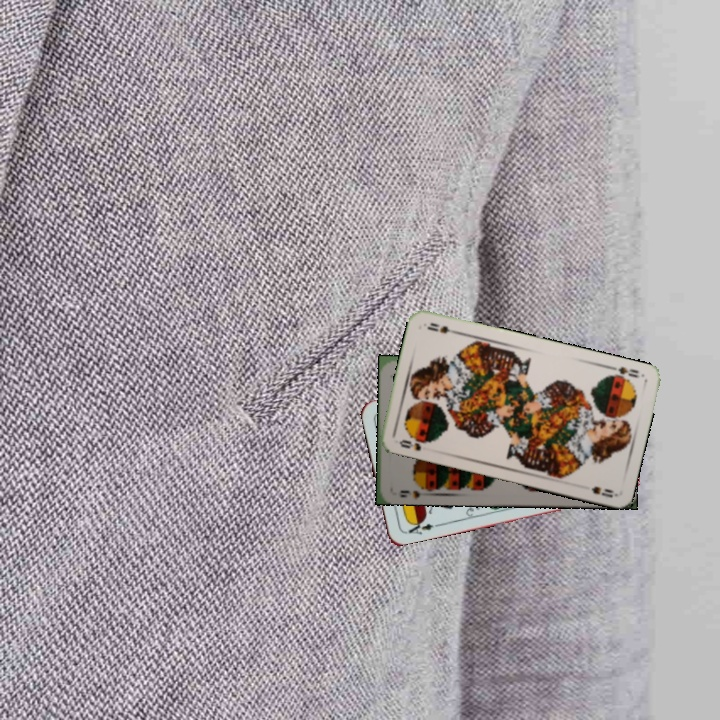EA: (400, 516, 441, 537)
S9: (396, 480, 432, 500)
SO: (604, 362, 646, 383), (395, 435, 434, 453)
